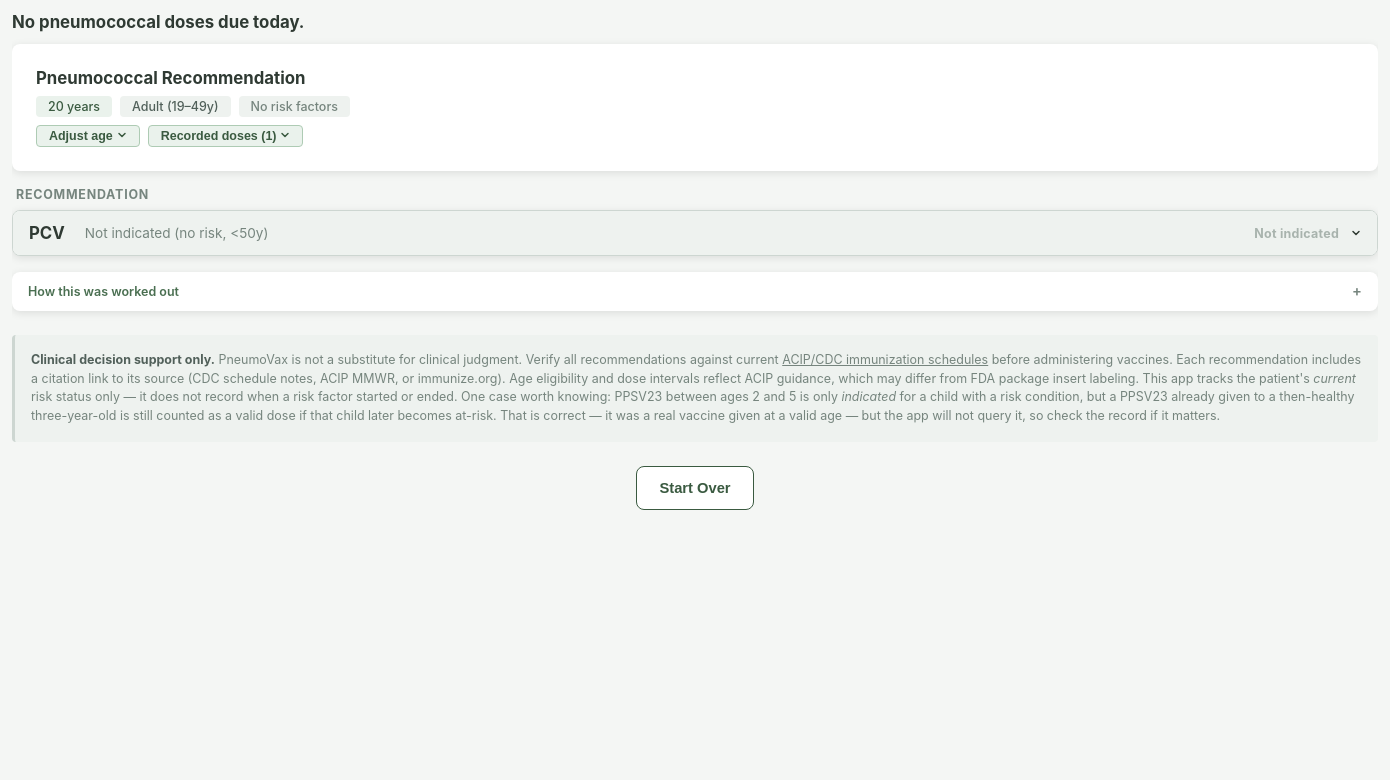
Test: P6-3c UI — a verdict citation renders as a working superscript › the PCV7 explanation is on screen
The image size is (1390, 780).
Step 1. Click the button "PCV Not indicated (no risk, <50y) Not indicated" → (47, 233), box [13, 211, 1377, 255]
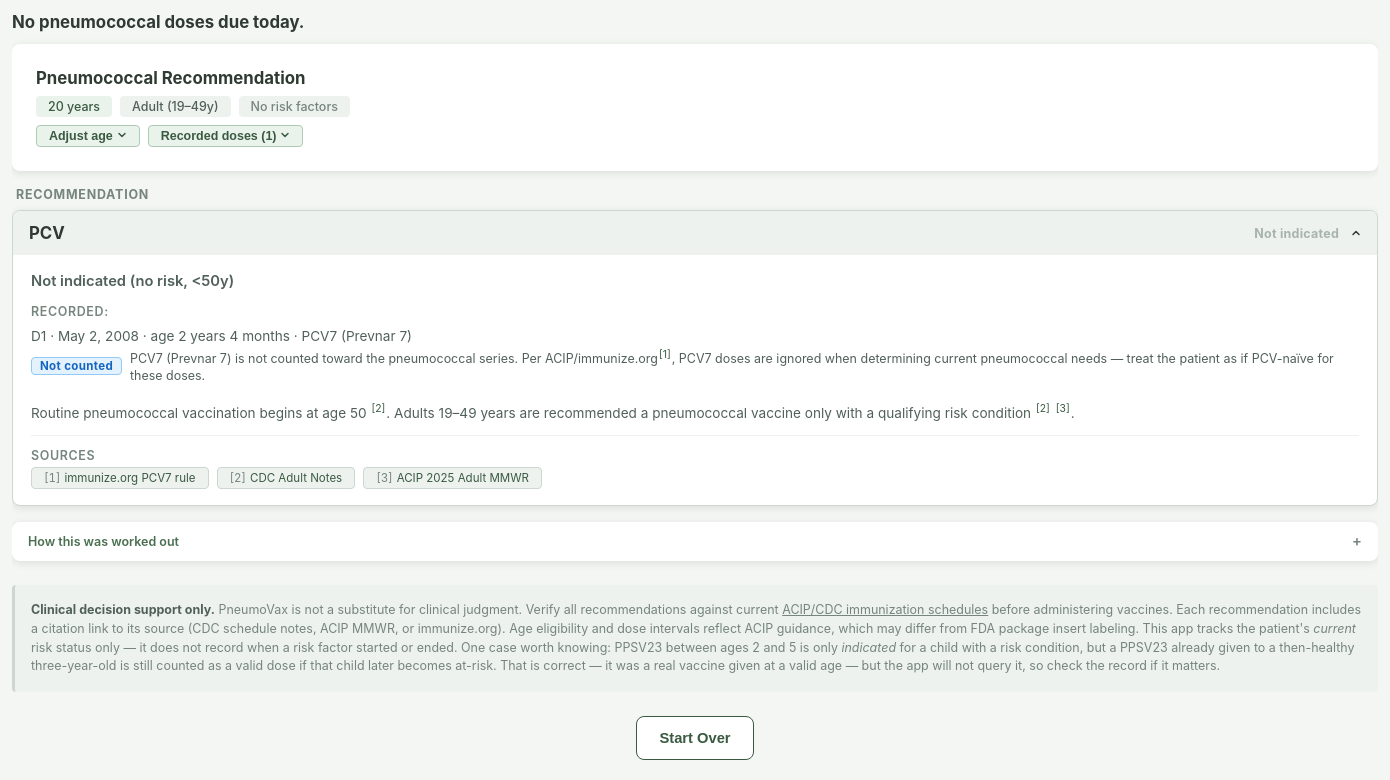
Check: the text "PCV7 doses are ignored when determining current pneumococcal needs" is shown, box [130, 351, 1334, 383]
